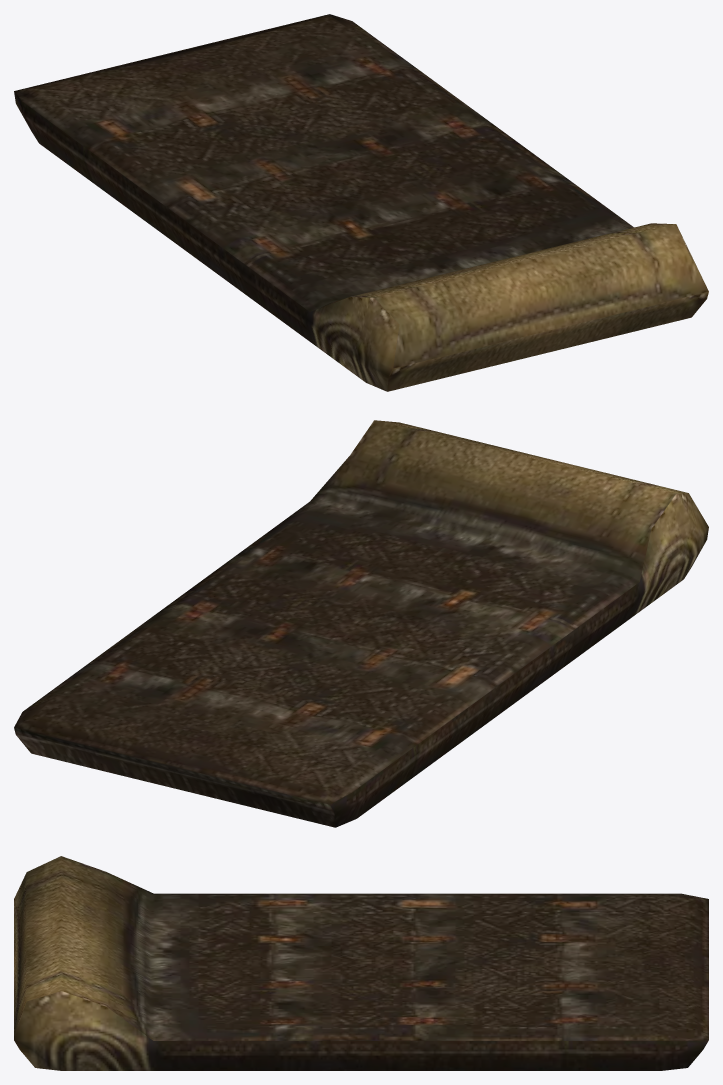
Rendered from o_mdl_env_propBedroll-transformed.glb.
The picture shows the model from 3 angles, top to bottom: view 1: azimuth 30°, elevation 25°; view 2: azimuth 150°, elevation 25°; view 3: azimuth 270°, elevation 25°; orthographic projection. The views are drawn at different scales.
Parts seen in each view (by area): view 1: default; view 2: default; view 3: default.
Part boxes in pixels (bbox=[...]): default: bbox=[14, 14, 708, 391]; default: bbox=[14, 420, 708, 827]; default: bbox=[14, 856, 708, 1070].
Size of the model in its own units: 1.03 by 0.2466 by 2.03.
1 material, 1 textured.
